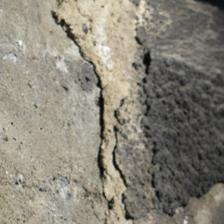Crack: (20, 0, 92, 104), (32, 13, 75, 124)
